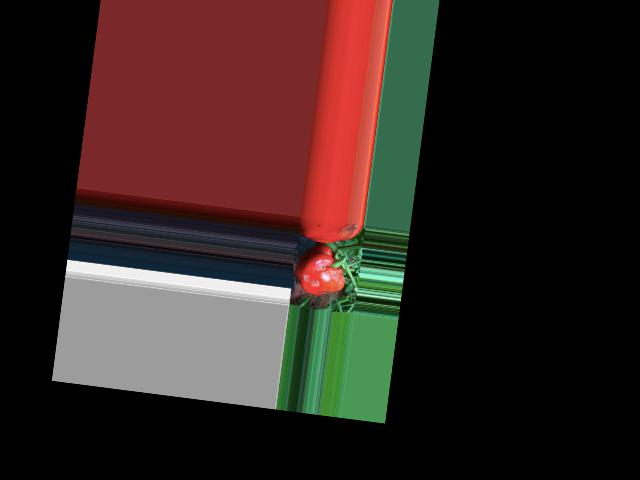bell_pepper: (289, 241, 353, 296)
